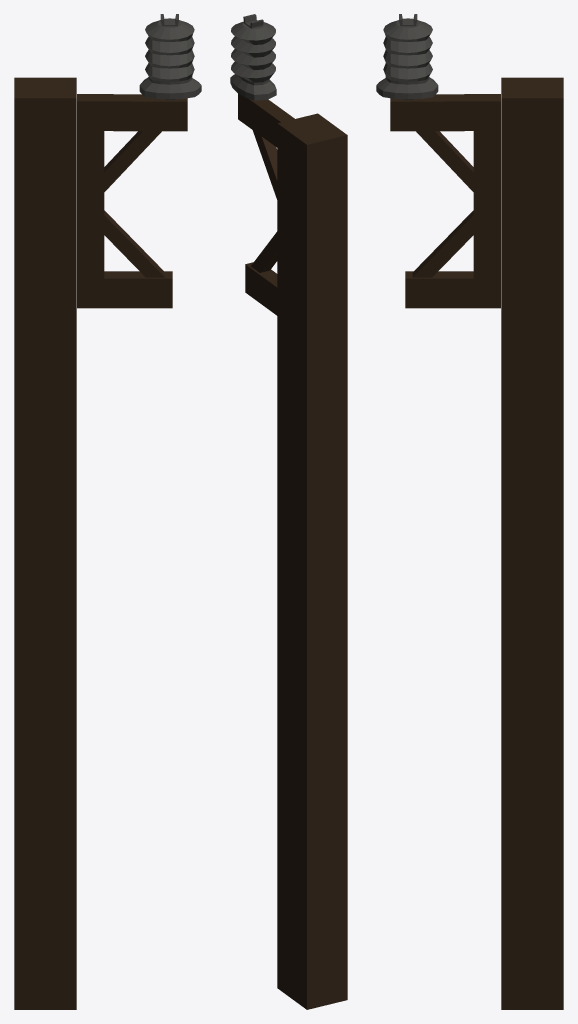
The model's file is TelephonePole.fbx.
3 renders of one model, left to right at view 1: azimuth 90°, elevation 25°; view 2: azimuth 210°, elevation 25°; view 3: azimuth 270°, elevation 25°, orthographic. The views are drawn at different scales.
Parts seen in each view (by area): view 1: Cube.002; view 2: Cube.002; view 3: Cube.002.
Boxes of the visible parts, <box> form: Cube.002: <box>14,14,201,1009</box>; Cube.002: <box>230,14,347,1009</box>; Cube.002: <box>376,14,563,1009</box>.
Bounding box in the file's own units: 56.91 × 1253 × 216.
